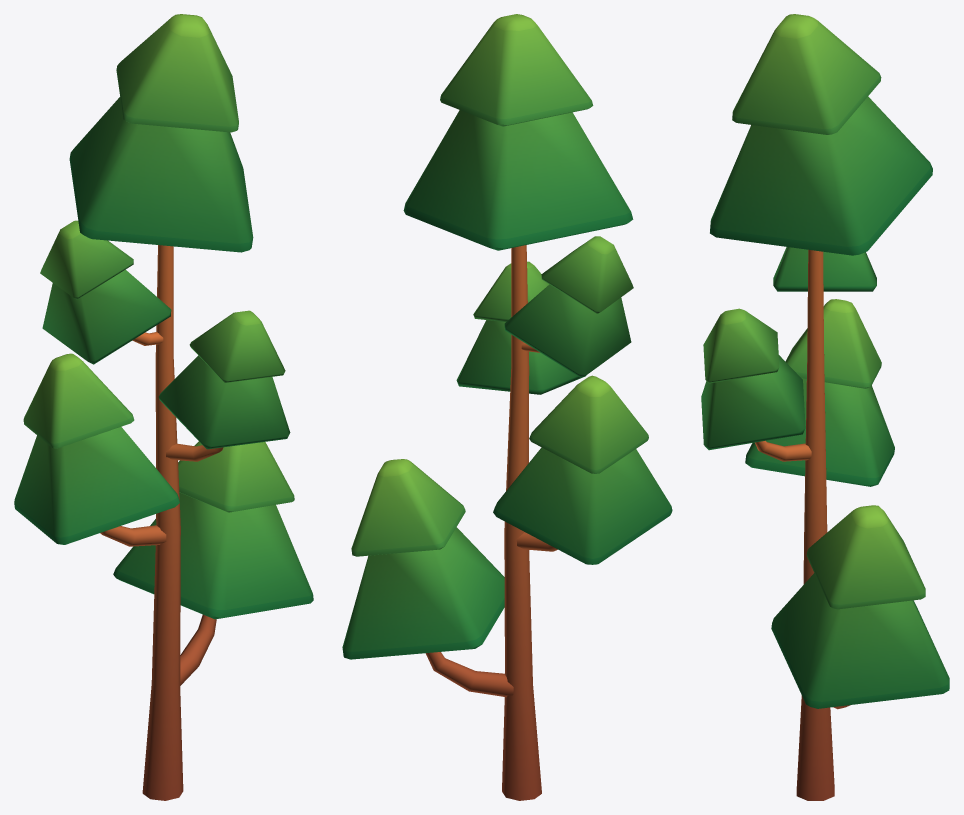
File: tree_4_c_trunk.glb
3 renders of one model, left to right at view 1: azimuth 30°, elevation 25°; view 2: azimuth 150°, elevation 25°; view 3: azimuth 270°, elevation 25°, orthographic. The views are drawn at different scales.
Visible parts, largest first — view 1: tree_4_c_trunk; view 2: tree_4_c_trunk; view 3: tree_4_c_trunk.
Part boxes in pixels (x1=…): tree_4_c_trunk: x1=14, y1=14, x2=313, y2=800; tree_4_c_trunk: x1=342, y1=14, x2=672, y2=800; tree_4_c_trunk: x1=701, y1=14, x2=949, y2=800.
Bounding box in the file's own units: 3.74 × 9.97 × 2.87.
Materials: 2 (2 with a texture image).
